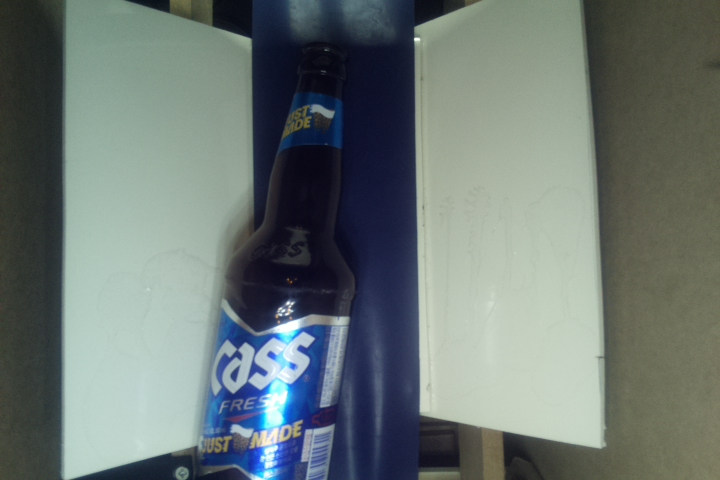makju: (198, 42, 358, 480)
